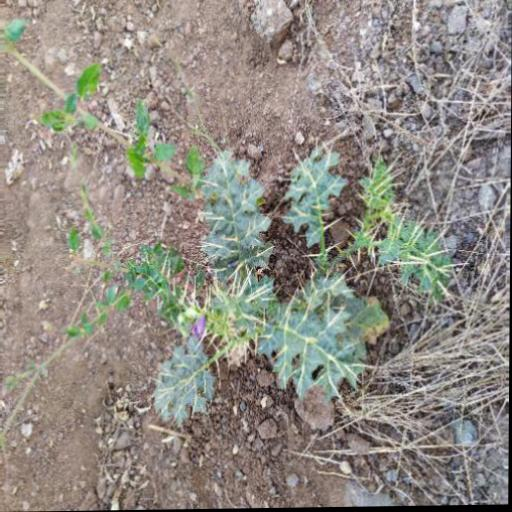weed: (155, 143, 467, 438)
